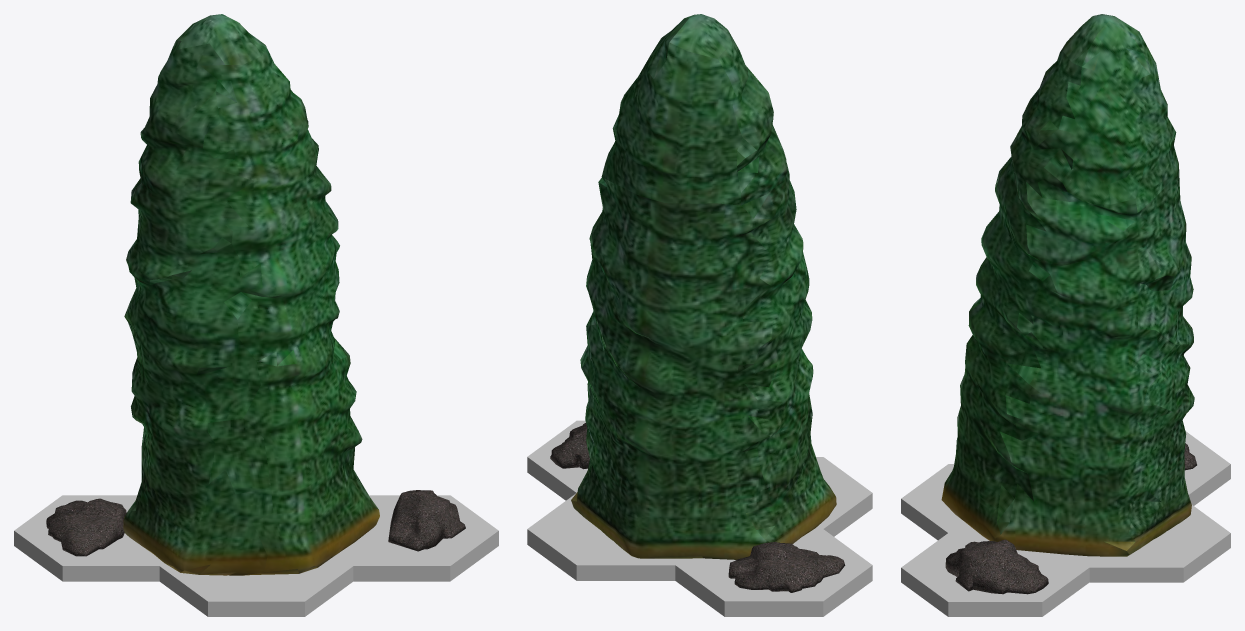
File: big-tree-415-textured.glb
3 views of the same model, side by side, from view 1: azimuth 30°, elevation 25°; view 2: azimuth 150°, elevation 25°; view 3: azimuth 270°, elevation 25° (orthographic). The views are drawn at different scales.
Parts seen in each view (by area): view 1: BigTreeTree, BigTreeBase, BigTreeBoulders; view 2: BigTreeTree, BigTreeBase, BigTreeBoulders; view 3: BigTreeTree, BigTreeBase, BigTreeBoulders.
Boxes of the visible parts, box(x1,y1,x2,y2) form: BigTreeTree: box(123, 14, 379, 575); BigTreeBase: box(14, 495, 498, 616); BigTreeBoulders: box(46, 490, 465, 556); BigTreeTree: box(571, 14, 836, 559); BigTreeBase: box(527, 420, 872, 616); BigTreeBoulders: box(550, 423, 845, 592); BigTreeTree: box(941, 14, 1194, 556); BigTreeBase: box(901, 431, 1230, 616); BigTreeBoulders: box(945, 443, 1196, 594).
Bounding box in the file's own units: 4.33 × 5.93 × 3.5.
3 materials, 2 textured.
